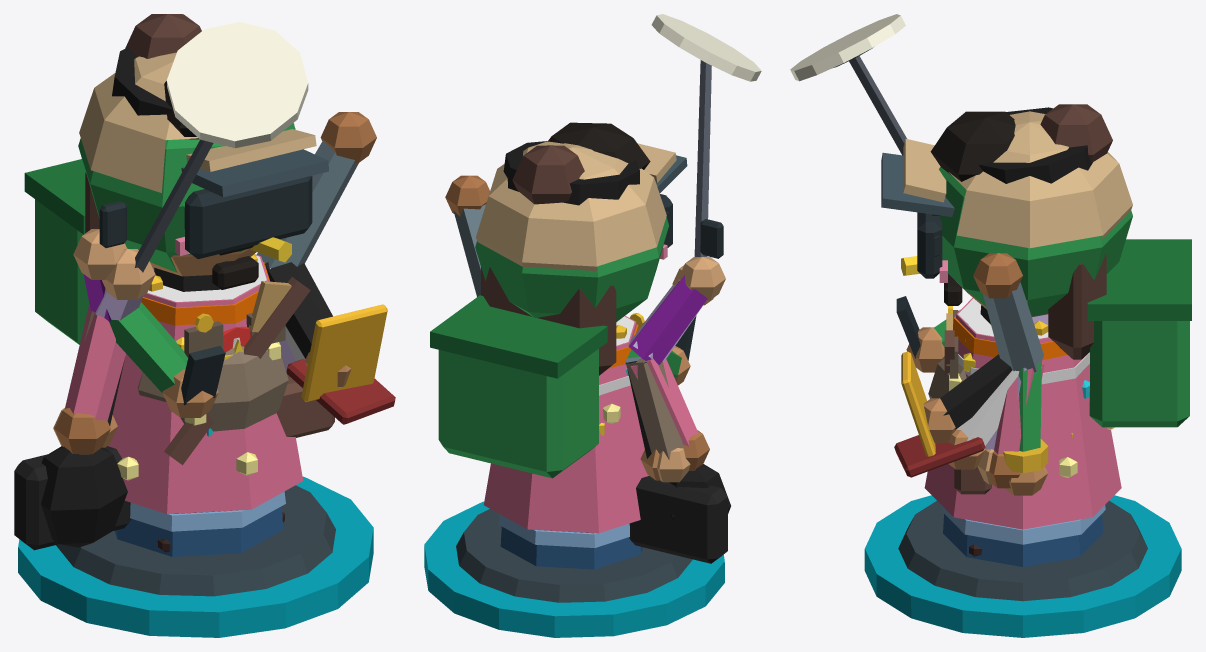
Rendered from pawns.glb.
3 renders of one model, left to right at view 1: azimuth 30°, elevation 25°; view 2: azimuth 150°, elevation 25°; view 3: azimuth 270°, elevation 25°, orthographic. The views are drawn at different scales.
Visible parts, largest first — view 1: Pawn_debt-collector, Pawn_selebgram_arm, Pawn_emak, Pawn_ojol_head, Pawn_emak_arm, Pawn_emak_head, Pawn_rt, Pawn_ojol, Pawn_debt-collector_arm, Pawn_pejabat, Pawn_ojol_arm, Pawn_jukir_arm (+8 smaller); view 2: Pawn_ojol, Pawn_debt-collector, Pawn_emak_head, Pawn_emak, Pawn_pejabat_arm, Pawn_ojol_head, Pawn_selebgram_head, Pawn_selebgram_arm, Pawn_sultan_arm, Pawn_rt, Pawn_emak_arm, Pawn_jukir_arm (+4 smaller); view 3: Pawn_debt-collector, Pawn_ojol, Pawn_emak, Pawn_emak_head, Pawn_ojol_head, Pawn_rt, Pawn_selebgram_head, Pawn_jukir_arm, Pawn_debt-collector_arm, Pawn_rt_arm, Pawn_sultan_head, Pawn_selebgram_arm (+7 smaller).
Boxes of the visible parts, x1=… form: Pawn_debt-collector: x1=18, y1=267, x2=373, y2=637; Pawn_selebgram_arm: x1=95, y1=22, x2=308, y2=320; Pawn_emak: x1=108, y1=254, x2=303, y2=514; Pawn_ojol_head: x1=78, y1=123, x2=312, y2=272; Pawn_emak_arm: x1=41, y1=304, x2=127, y2=547; Pawn_emak_head: x1=79, y1=52, x2=316, y2=228; Pawn_rt: x1=115, y1=255, x2=285, y2=556; Pawn_ojol: x1=24, y1=159, x2=89, y2=344; Pawn_debt-collector_arm: x1=264, y1=262, x2=387, y2=401; Pawn_pejabat: x1=137, y1=281, x2=291, y2=431; Pawn_ojol_arm: x1=109, y1=302, x2=225, y2=417; Pawn_jukir_arm: x1=256, y1=112, x2=376, y2=268; Pawn_ojol: x1=430, y1=295, x2=607, y2=478; Pawn_debt-collector: x1=424, y1=361, x2=724, y2=637; Pawn_emak_head: x1=476, y1=141, x2=676, y2=270; Pawn_emak: x1=484, y1=315, x2=648, y2=533; Pawn_pejabat_arm: x1=626, y1=358, x2=727, y2=563; Pawn_ojol_head: x1=475, y1=194, x2=672, y2=321; Pawn_selebgram_head: x1=481, y1=145, x2=667, y2=375; Pawn_selebgram_arm: x1=628, y1=14, x2=761, y2=360; Pawn_sultan_arm: x1=628, y1=219, x2=725, y2=364; Pawn_rt: x1=498, y1=316, x2=642, y2=569; Pawn_emak_arm: x1=630, y1=358, x2=730, y2=520; Pawn_jukir_arm: x1=445, y1=175, x2=489, y2=296; Pawn_debt-collector: x1=864, y1=305, x2=1181, y2=637; Pawn_ojol: x1=1005, y1=239, x2=1191, y2=495; Pawn_emak: x1=924, y1=297, x2=1121, y2=529; Pawn_emak_head: x1=903, y1=111, x2=1132, y2=256; Pawn_ojol_head: x1=917, y1=167, x2=1132, y2=316; Pawn_rt: x1=940, y1=298, x2=1105, y2=566; Pawn_selebgram_head: x1=939, y1=104, x2=1112, y2=359; Pawn_jukir_arm: x1=973, y1=253, x2=1043, y2=372; Pawn_debt-collector_arm: x1=901, y1=351, x2=1012, y2=456; Pawn_rt_arm: x1=894, y1=370, x2=1036, y2=477; Pawn_sultan_head: x1=930, y1=111, x2=1015, y2=181; Pawn_selebgram_arm: x1=790, y1=14, x2=906, y2=155.
Bounding box in the file's own units: 0.4109 × 0.7061 × 0.4819.
